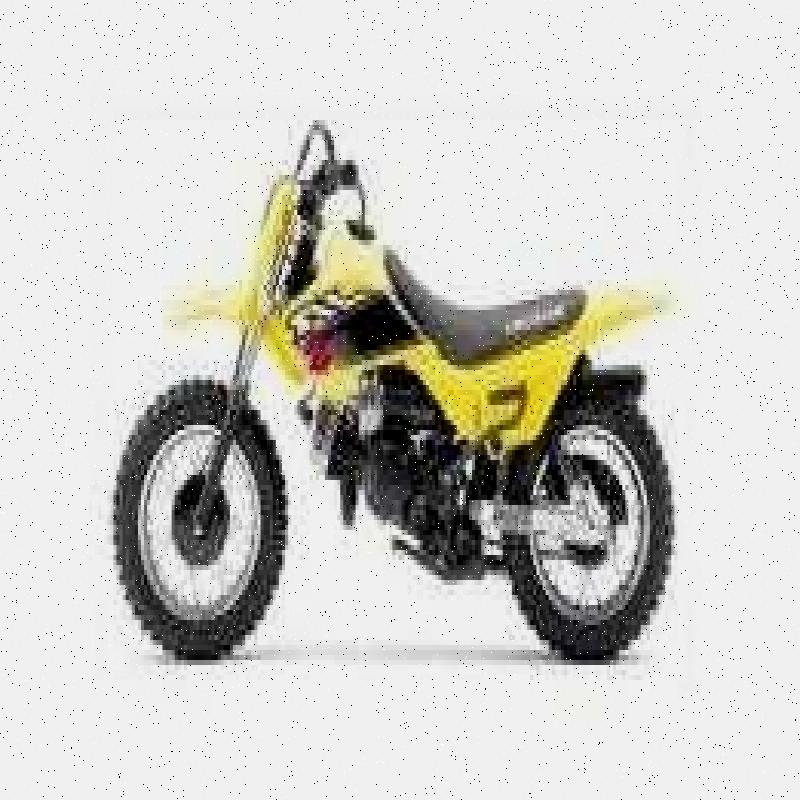bike: (86, 113, 654, 672)
